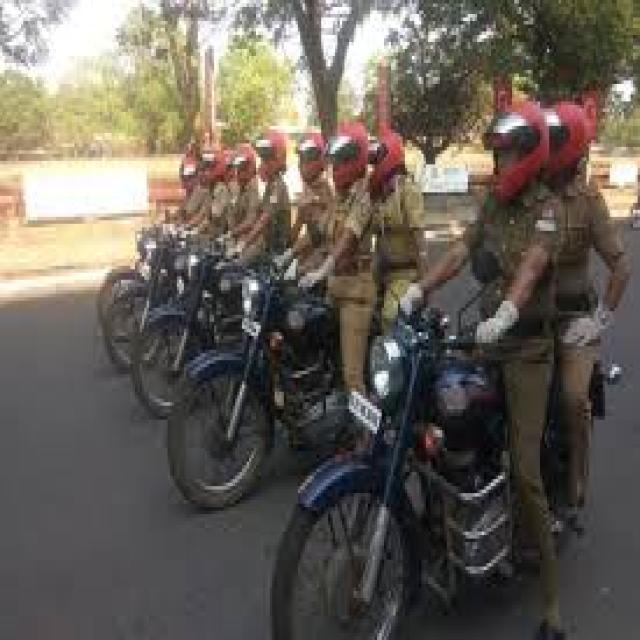motorcycle ahead at: (276, 268, 640, 640), (163, 278, 397, 514)
